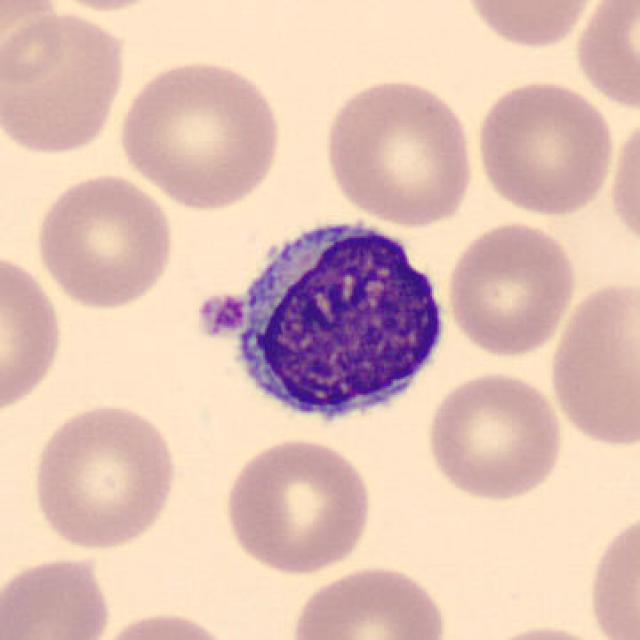Lymphocyte: (211, 203, 457, 437)
Platelets: (192, 289, 247, 340)
RBC: (114, 55, 286, 212), (318, 74, 478, 229), (27, 398, 181, 554), (219, 434, 377, 576), (471, 75, 619, 218), (30, 169, 178, 312), (442, 217, 580, 360), (422, 367, 566, 504), (0, 8, 130, 158), (544, 275, 638, 450), (286, 562, 454, 640), (0, 247, 68, 421), (0, 552, 116, 640), (457, 0, 606, 51), (571, 0, 638, 113), (585, 506, 640, 640), (0, 0, 68, 88), (606, 108, 640, 259), (87, 608, 238, 640), (469, 620, 618, 640), (37, 0, 176, 14)
